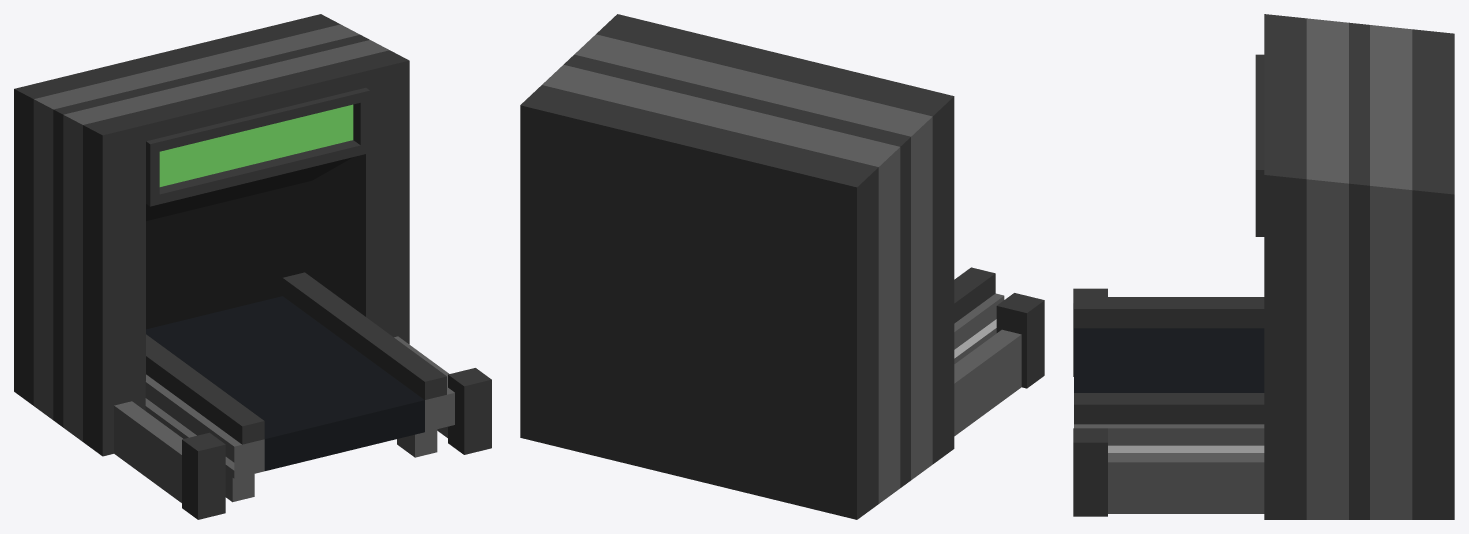
The model's file is Collector.fbx.
3 renders of one model, left to right at view 1: azimuth 30°, elevation 25°; view 2: azimuth 150°, elevation 25°; view 3: azimuth 270°, elevation 25°, orthographic. The views are drawn at different scales.
Parts seen in each view (by area): view 1: Cube.055, Cube.054; view 2: Cube.055, Cube.054; view 3: Cube.055, Cube.054.
Part boxes in pixels (left/top/right/bottom): Cube.055: left=14, top=14, right=491, bottom=519; Cube.054: left=145, top=272, right=454, bottom=502; Cube.055: left=520, top=14, right=1044, bottom=519; Cube.054: left=954, top=267, right=1004, bottom=363; Cube.055: left=1073, top=14, right=1454, bottom=519; Cube.054: left=1074, top=297, right=1264, bottom=452.
Bounding box in the file's own units: 100 × 100 × 100.
